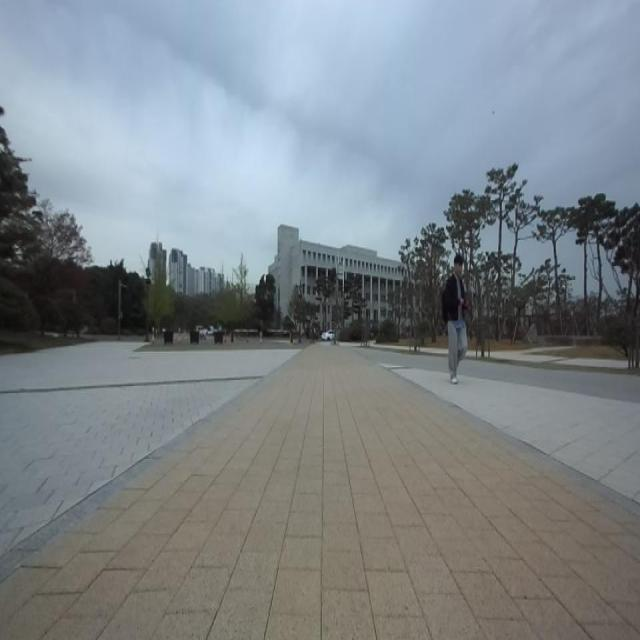sidewalk: (0, 344, 640, 639)
